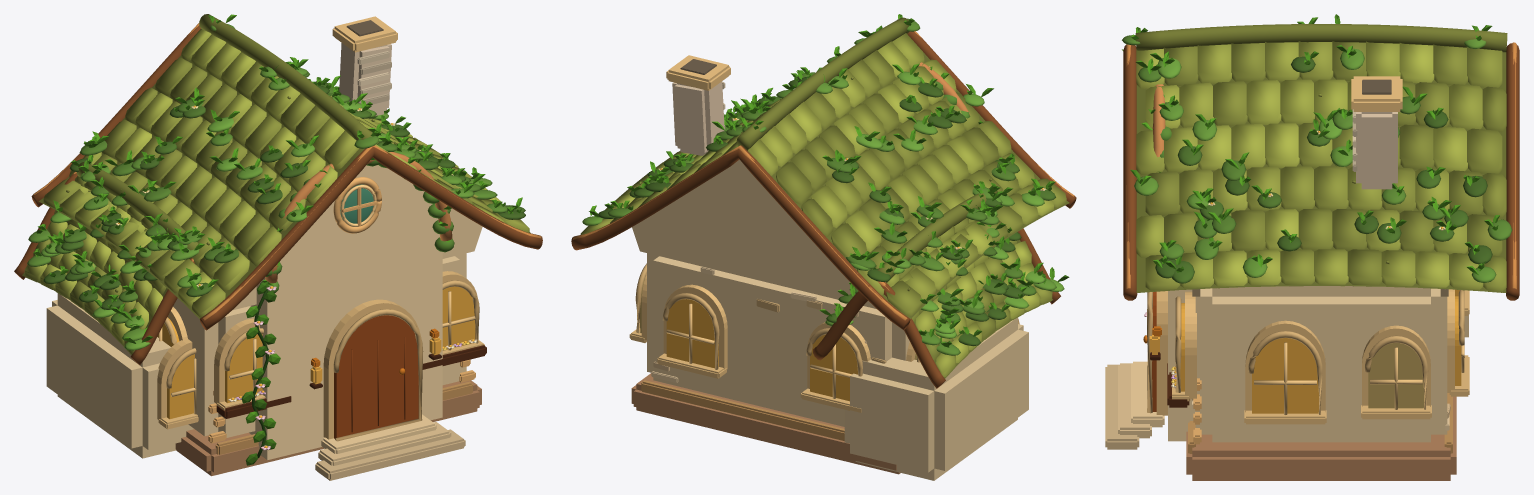
Rendered from cottage-moss-Df5BKu3x.glb.
The picture shows the model from 3 angles, left to right: view 1: azimuth 30°, elevation 25°; view 2: azimuth 150°, elevation 25°; view 3: azimuth 270°, elevation 25°; orthographic projection. The views are drawn at different scales.
Visible parts, largest first — view 1: cottage-moss; view 2: cottage-moss; view 3: cottage-moss.
Part boxes in pixels (bbox=[...]): cottage-moss: bbox=[14, 14, 542, 480]; cottage-moss: bbox=[571, 14, 1076, 480]; cottage-moss: bbox=[1105, 14, 1519, 480].
Bounding box in the file's own units: 6.3 × 5.3 × 5.2.
